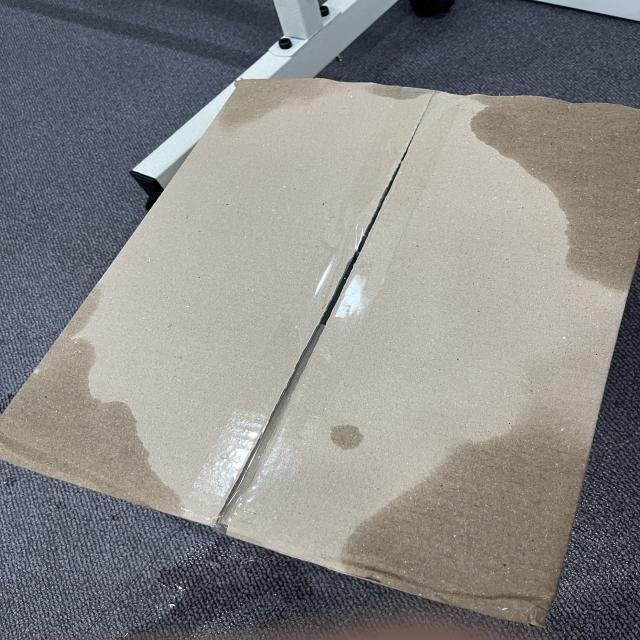wet: (330, 414, 579, 622), (0, 287, 181, 511), (472, 94, 640, 302), (230, 79, 422, 129)
